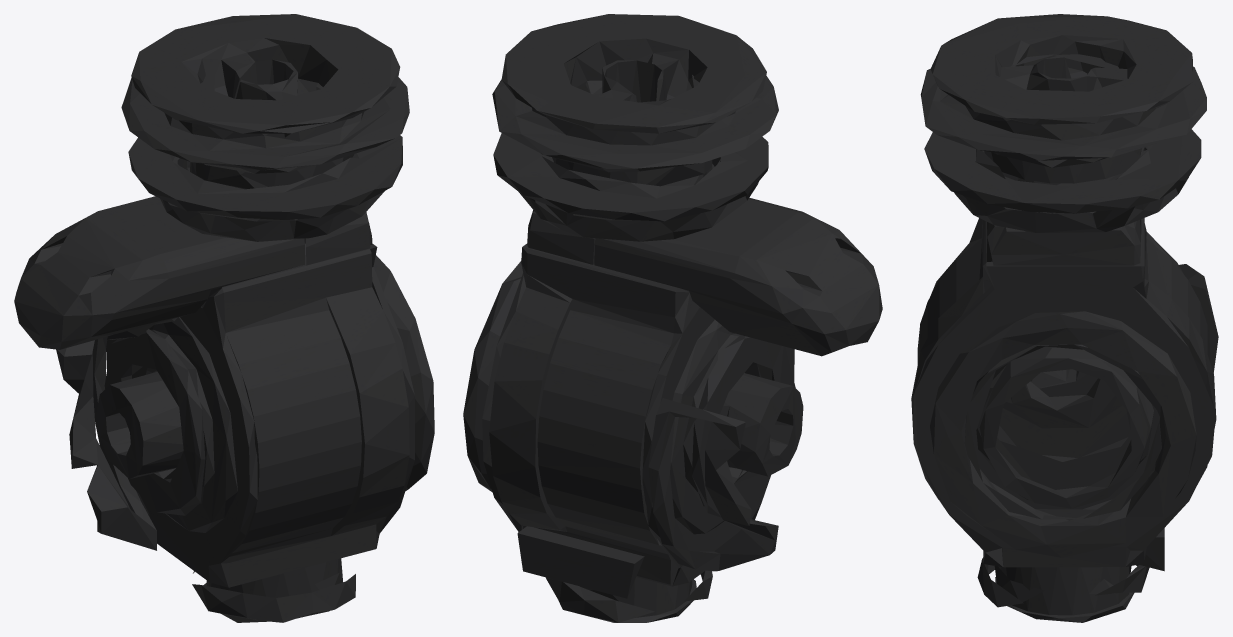
File: hip_x_lo_res.dae
The picture shows the model from 3 angles, left to right: view 1: azimuth 30°, elevation 25°; view 2: azimuth 150°, elevation 25°; view 3: azimuth 270°, elevation 25°; orthographic projection.
Parts seen in each view (by area): view 1: node; view 2: node; view 3: node.
Part boxes in pixels (bbox=[...]): node: bbox=[14, 14, 434, 622]; node: bbox=[463, 14, 882, 622]; node: bbox=[911, 14, 1218, 622].
Bounding box in the file's own units: 0.1235 × 0.1745 × 0.0913.
Materials: 1 (1 with a texture image).
